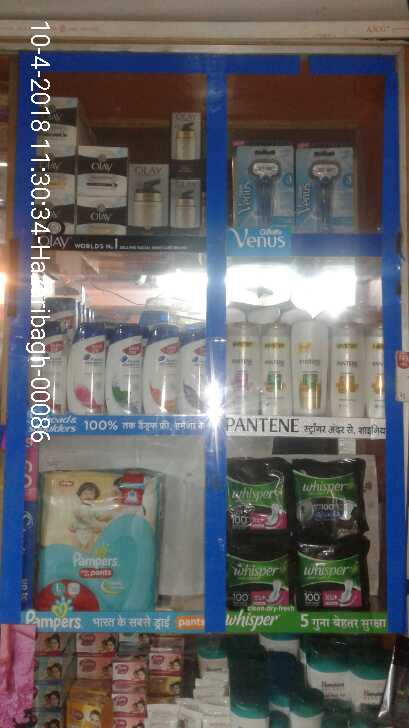venus: (296, 145, 356, 233), (236, 145, 296, 233)
